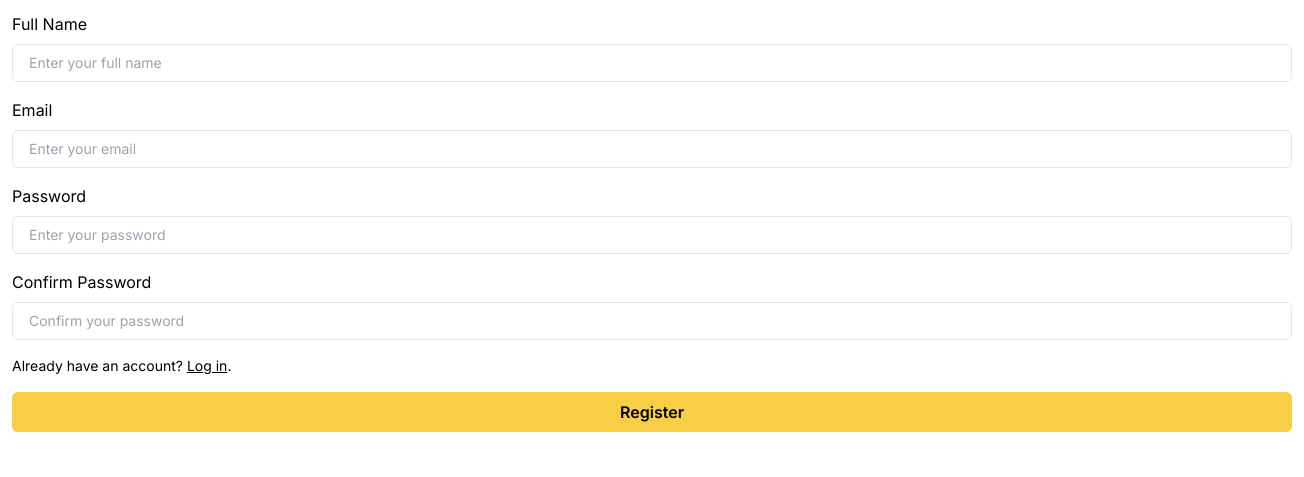
Scenario: RegisterForm › should display error if passwords do not match
This screenshot has width=1304, height=477.
Type "testuser" into the field with placeholder "Enter your full name" at (652, 63), box [12,44,1292,82]
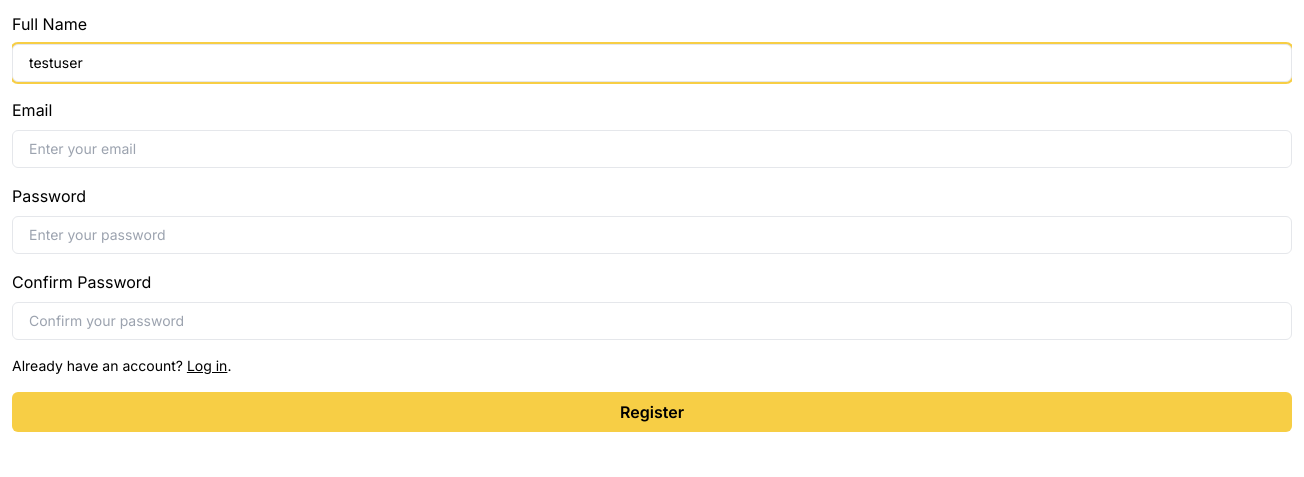
Type "test@example.com" into the field with placeholder "Enter your email" at (652, 149), box [12,130,1292,168]
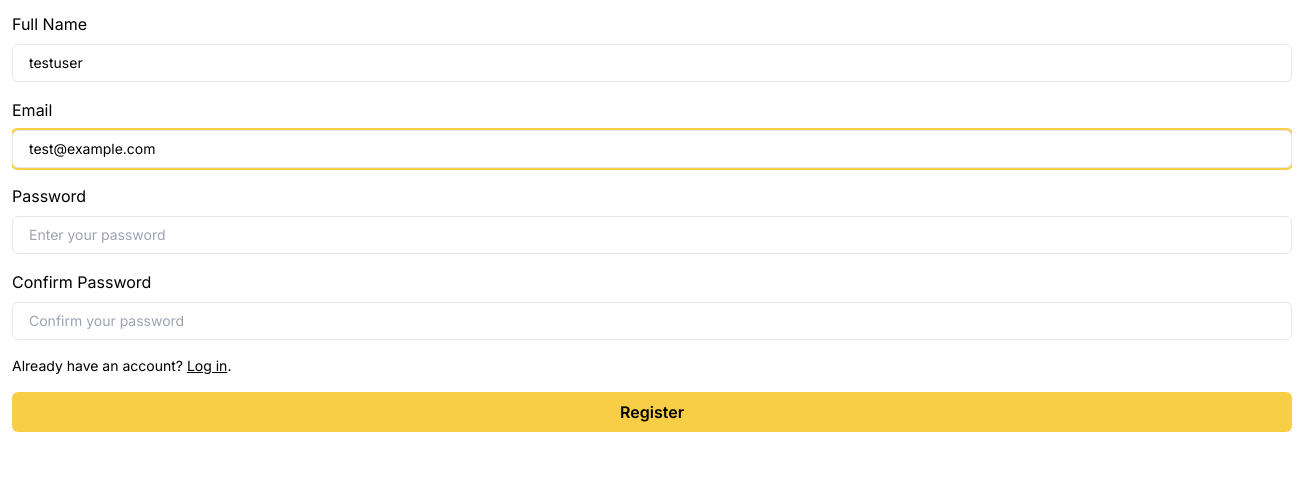
Type "password123" into the password field with placeholder "Enter your password" at (652, 235), box [12,216,1292,254]
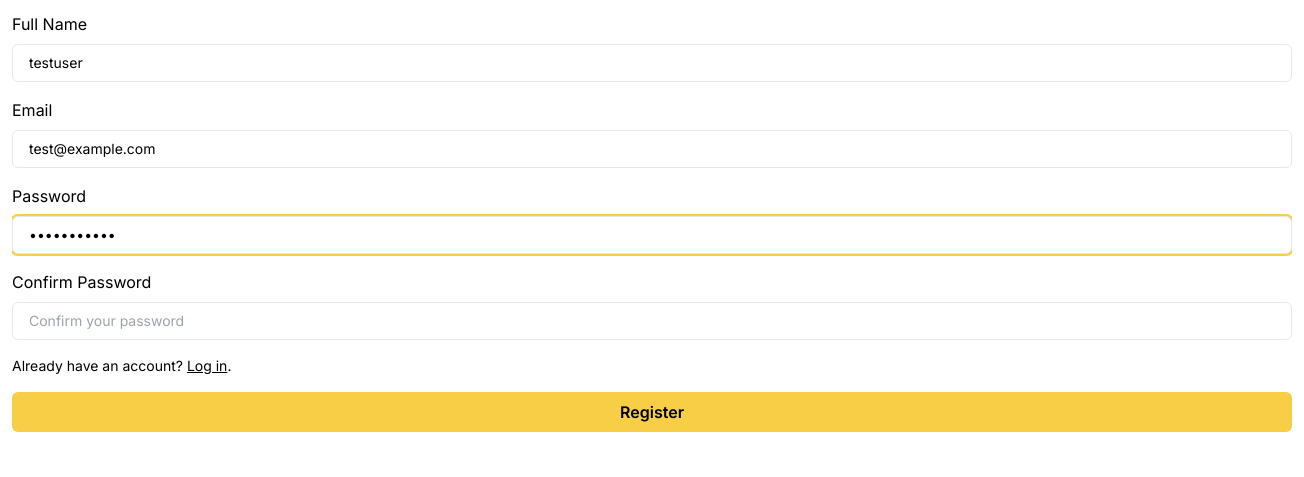
Type "password456" into the password field with placeholder "Confirm your password" at (652, 321), box [12,302,1292,340]
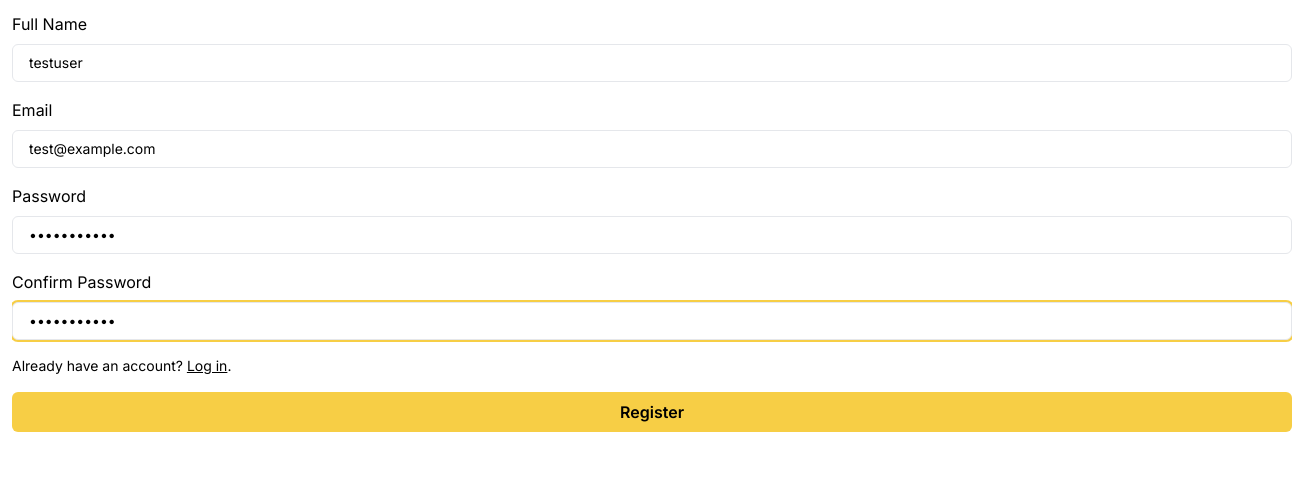
Click the button "Register" at (652, 412), box [12,392,1292,432]
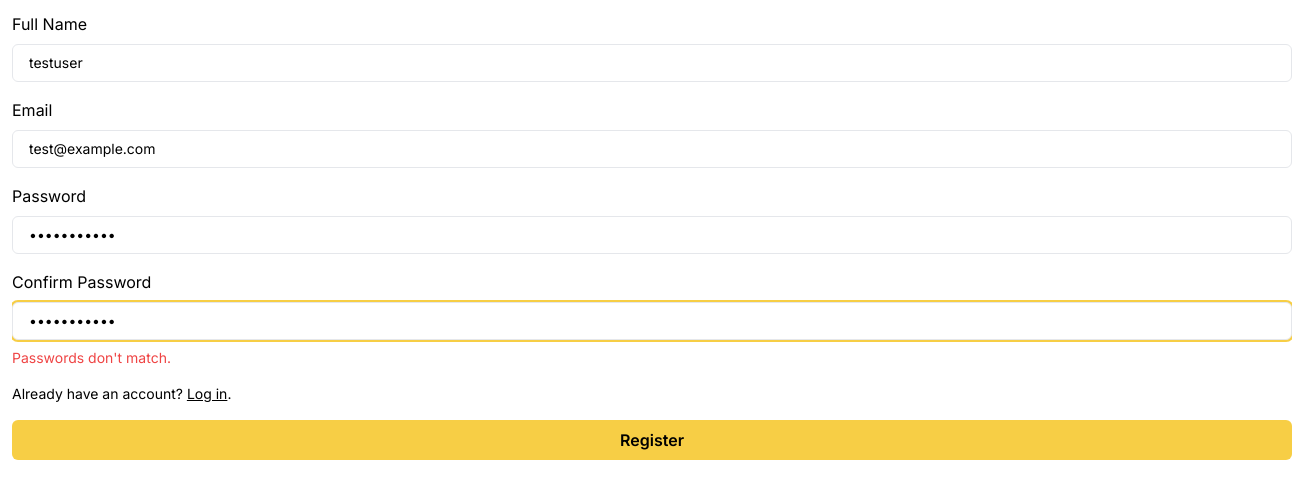
Expected: the text "Passwords don't match." is shown, [12,349,171,366]
